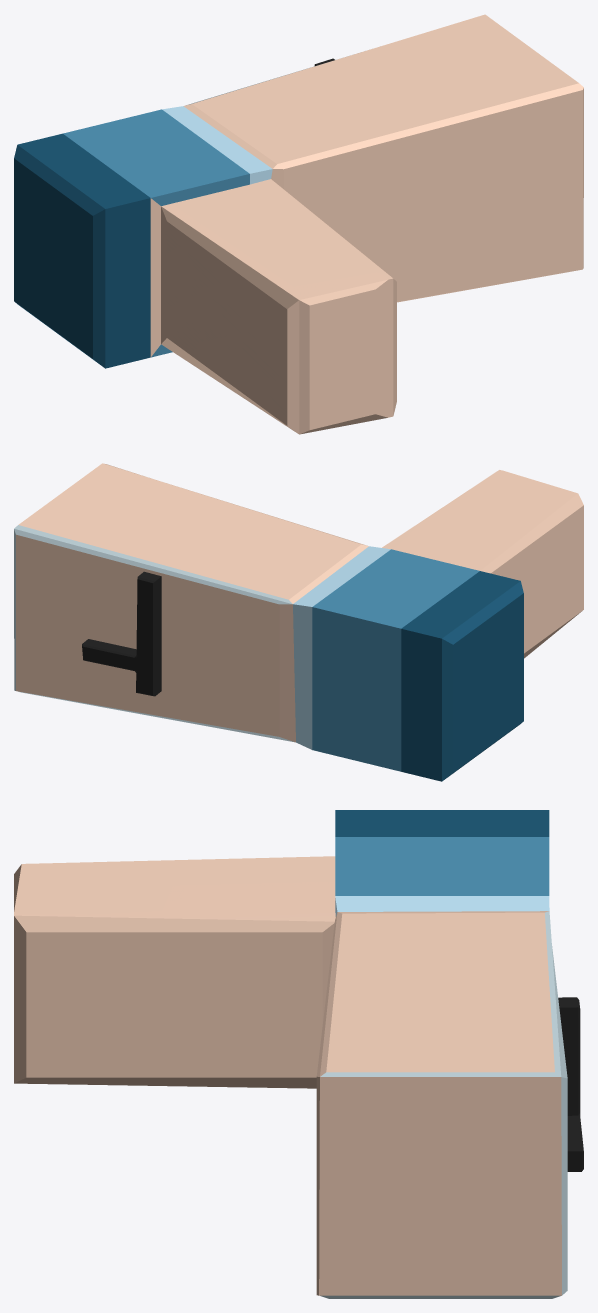
The model's file is GunTextured.fbx.
The picture shows the model from 3 angles, top to bottom: view 1: azimuth 30°, elevation 25°; view 2: azimuth 150°, elevation 25°; view 3: azimuth 270°, elevation 25°; orthographic projection. The views are drawn at different scales.
Parts seen in each view (by area): view 1: Cube.001; view 2: Cube.001; view 3: Cube.001.
Boxes of the visible parts, left/top/right/bottom form: Cube.001: left=14, top=14, right=583, bottom=434; Cube.001: left=14, top=463, right=583, bottom=781; Cube.001: left=14, top=810, right=583, bottom=1298.
Bounding box in the file's own units: 630 × 235 × 532.
